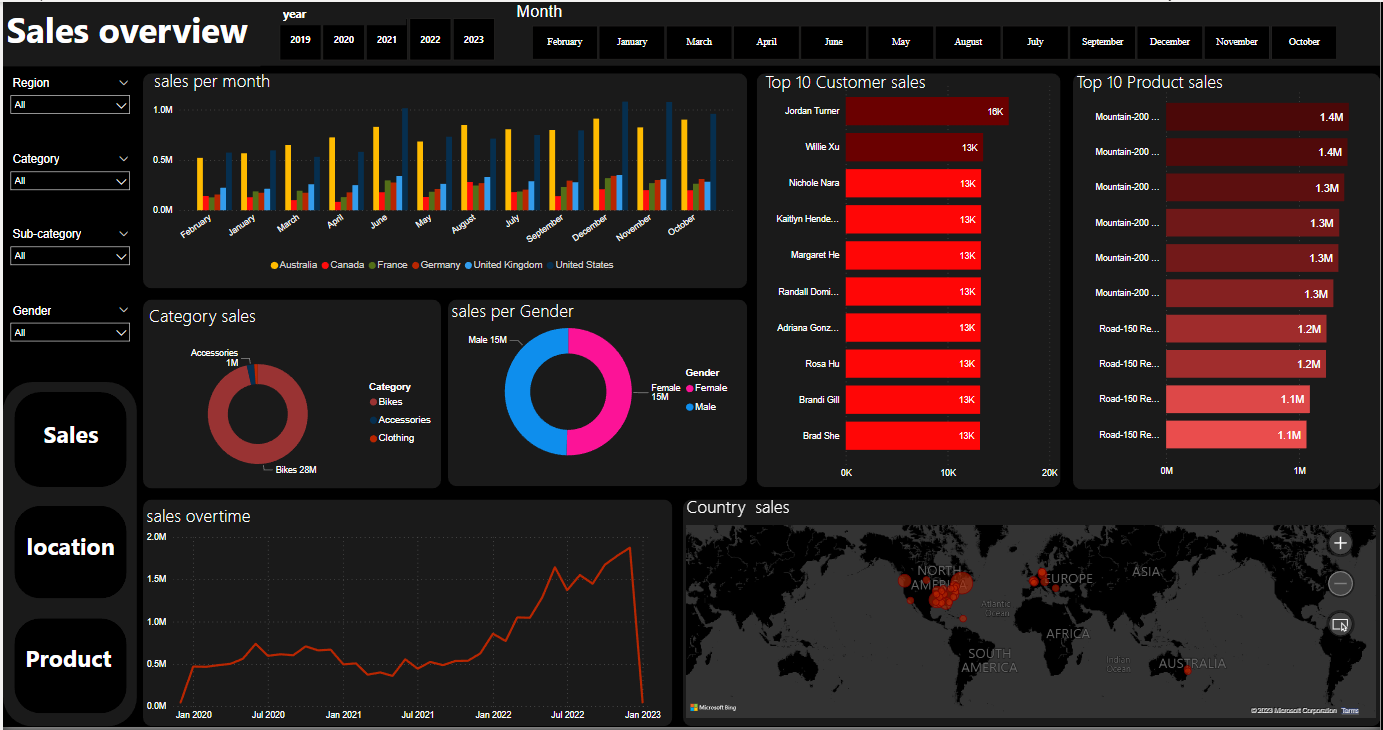

What the dashboard file says about the page in this screenshot:
{"tool":"powerbi","page":{"name":"sales","canvas":[1900,1000],"ordinal":0},"visuals":[{"type":"shape","box":[0,525.1,185.1,475.4],"z":0},{"type":"shape","box":[15,538.6,155,130.9],"z":1000},{"type":"shape","box":[15,695.8,155,127.9],"z":2000},{"type":"shape","box":[15,850.1,155,130.9],"z":3000},{"type":"textbox","box":[27.1,723.7,132.4,72.2],"z":4000},{"type":"textbox","box":[27.1,568.7,132.4,75.2],"z":5000},{"type":"textbox","box":[25.6,878.6,132.4,75.2],"z":6000},{"type":"actionButton","box":[27.1,538.6,130.9,130.9],"z":7000},{"type":"actionButton","box":[27.1,702.6,130.9,121.9],"z":8000},{"type":"actionButton","box":[27.1,857.6,130.9,123.4],"z":9000},{"type":"shape","box":[0,0,1900,88.1],"z":10000},{"type":"textbox","box":[0,0,355.4,88.8],"z":11000},{"type":"slicer","fields":{"Values":["DimDate.year"]},"box":[355.9,16.2,347.1,72.1],"z":12000},{"type":"textbox","box":[380.9,0,175,32.4],"z":13000},{"type":"slicer","title":"Month","fields":{"Values":["DimDate.month"]},"box":[702.9,0,1161.2,86.4],"z":14000},{"type":"slicer","fields":{"Values":["Dimlocation.Region"]},"box":[0,98.5,185.3,88.2],"z":15000},{"type":"slicer","fields":{"Values":["DimProduct.Category"]},"box":[0,202.9,185.3,88.2],"z":16000},{"type":"slicer","fields":{"Values":["DimProduct.Sub-category"]},"box":[0,307.4,185.3,88.2],"z":17000},{"type":"slicer","fields":{"Values":["Dimcastomer.Gender"]},"box":[0,411.8,185.3,88.2],"z":18000},{"type":"shape","box":[192.4,686.6,730.6,313.1],"z":19000},{"type":"lineChart","fields":{"Category":["DimDate.orderDate.Variation.Date Hierarchy.Year","DimDate.orderDate.Variation.Date Hierarchy.Quarter","DimDate.orderDate.Variation.Date Hierarchy.Month"],"Y":["Sum(Factorder.SalesAmount)"]},"box":[192.4,724.1,719.2,275.6],"z":20000},{"type":"shape","box":[192.4,411,411,260.9],"z":21000},{"type":"donutChart","fields":{"Y":["Sum(Factorder.SalesAmount)"],"Category":["DimProduct.Category"]},"box":[192.4,473,411,192.4],"z":22000},{"type":"shape","box":[937.8,686.6,962.2,313.1],"z":23000},{"type":"map","fields":{"Category":["Dimlocation.state"],"Size":["Sum(Factorder.SalesAmount)"]},"box":[937.8,717.6,962.2,275.6],"z":24000},{"type":"shape","box":[192.4,97.9,833.4,296.8],"z":25000},{"type":"clusteredColumnChart","fields":{"Series":["Dimlocation.Region"],"Category":["DimDate.month"],"Y":["Sum(Factorder.SalesAmount)"]},"box":[202.2,107.6,812.2,275.6],"z":26000},{"type":"shape","box":[613.2,411,412.6,257.7],"z":27000},{"type":"donutChart","fields":{"Y":["Sum(Factorder.SalesAmount)"],"Category":["Dimcastomer.Gender"]},"box":[614.8,411,399.6,254.4],"z":28000},{"type":"shape","box":[1040.5,97.9,419.1,570.8],"z":29000},{"type":"shape","box":[1476,97.9,424,574.1],"z":30000},{"type":"barChart","fields":{"Category":["Dimcastomer.Name"],"Y":["Sum(Factorder.SalesAmount)"]},"box":[1047,97.9,412.6,567.6],"z":31000},{"type":"barChart","fields":{"Category":["DimProduct.productName"],"Y":["Sum(Factorder.SalesAmount)"]},"box":[1490.6,107.6,409.4,556.1],"z":32000},{"type":"textbox","box":[203.9,86.4,355.5,53.8],"z":33000},{"type":"textbox","box":[197.3,411,355.5,53.8],"z":34000},{"type":"textbox","box":[614.8,402.8,355.5,53.8],"z":35000},{"type":"textbox","box":[192.4,686.6,355.5,53.8],"z":36000},{"type":"textbox","box":[937.8,675.2,355.5,53.8],"z":37000},{"type":"textbox","box":[1047,88.1,355.5,53.8],"z":38000},{"type":"textbox","box":[1476,88.1,355.5,53.8],"z":39000}]}

Visuals, with their boxes in screenshot pixels (x1, y1, x2, y2), scaled from the page's 1900x1000 canvas onto the 1383x730 screenshot:
shape: (0,383,135,729)
shape: (11,393,124,489)
shape: (11,508,124,601)
shape: (11,621,124,716)
textbox: (20,528,116,581)
textbox: (20,415,116,470)
textbox: (19,641,115,696)
actionButton: (20,393,115,489)
actionButton: (20,513,115,602)
actionButton: (20,626,115,716)
shape: (0,0,1382,64)
textbox: (0,0,259,65)
slicer - DimDate.year: (259,12,512,64)
textbox: (277,0,405,24)
"Month" slicer: (512,0,1357,63)
slicer - Dimlocation.Region: (0,72,135,136)
slicer - DimProduct.Category: (0,148,135,213)
slicer - DimProduct.Sub-category: (0,224,135,289)
slicer - Dimcastomer.Gender: (0,301,135,365)
shape: (140,501,672,729)
lineChart - DimDate.orderDate.Variation.Date Hierarchy.Year x DimDate.orderDate.Variation.Date Hierarchy.Quarter: (140,529,664,729)
shape: (140,300,439,490)
donutChart - Sum(Factorder.SalesAmount) x DimProduct.Category: (140,345,439,486)
shape: (683,501,1382,729)
map - Dimlocation.state x Sum(Factorder.SalesAmount): (683,524,1382,725)
shape: (140,71,747,288)
clusteredColumnChart - Dimlocation.Region x DimDate.month: (147,79,738,280)
shape: (446,300,747,488)
donutChart - Sum(Factorder.SalesAmount) x Dimcastomer.Gender: (448,300,738,486)
shape: (757,71,1062,488)
shape: (1074,71,1382,491)
barChart - Dimcastomer.Name x Sum(Factorder.SalesAmount): (762,71,1062,486)
barChart - DimProduct.productName x Sum(Factorder.SalesAmount): (1085,79,1382,485)
textbox: (148,63,407,102)
textbox: (144,300,402,339)
textbox: (448,294,706,333)
textbox: (140,501,399,540)
textbox: (683,493,941,532)
textbox: (762,64,1021,104)
textbox: (1074,64,1333,104)
